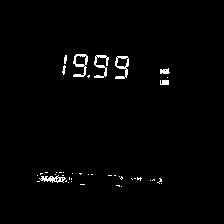dot: (87, 72, 91, 78)
nine: (72, 52, 87, 78), (94, 53, 108, 78), (115, 55, 128, 78)
one: (62, 54, 66, 75)
